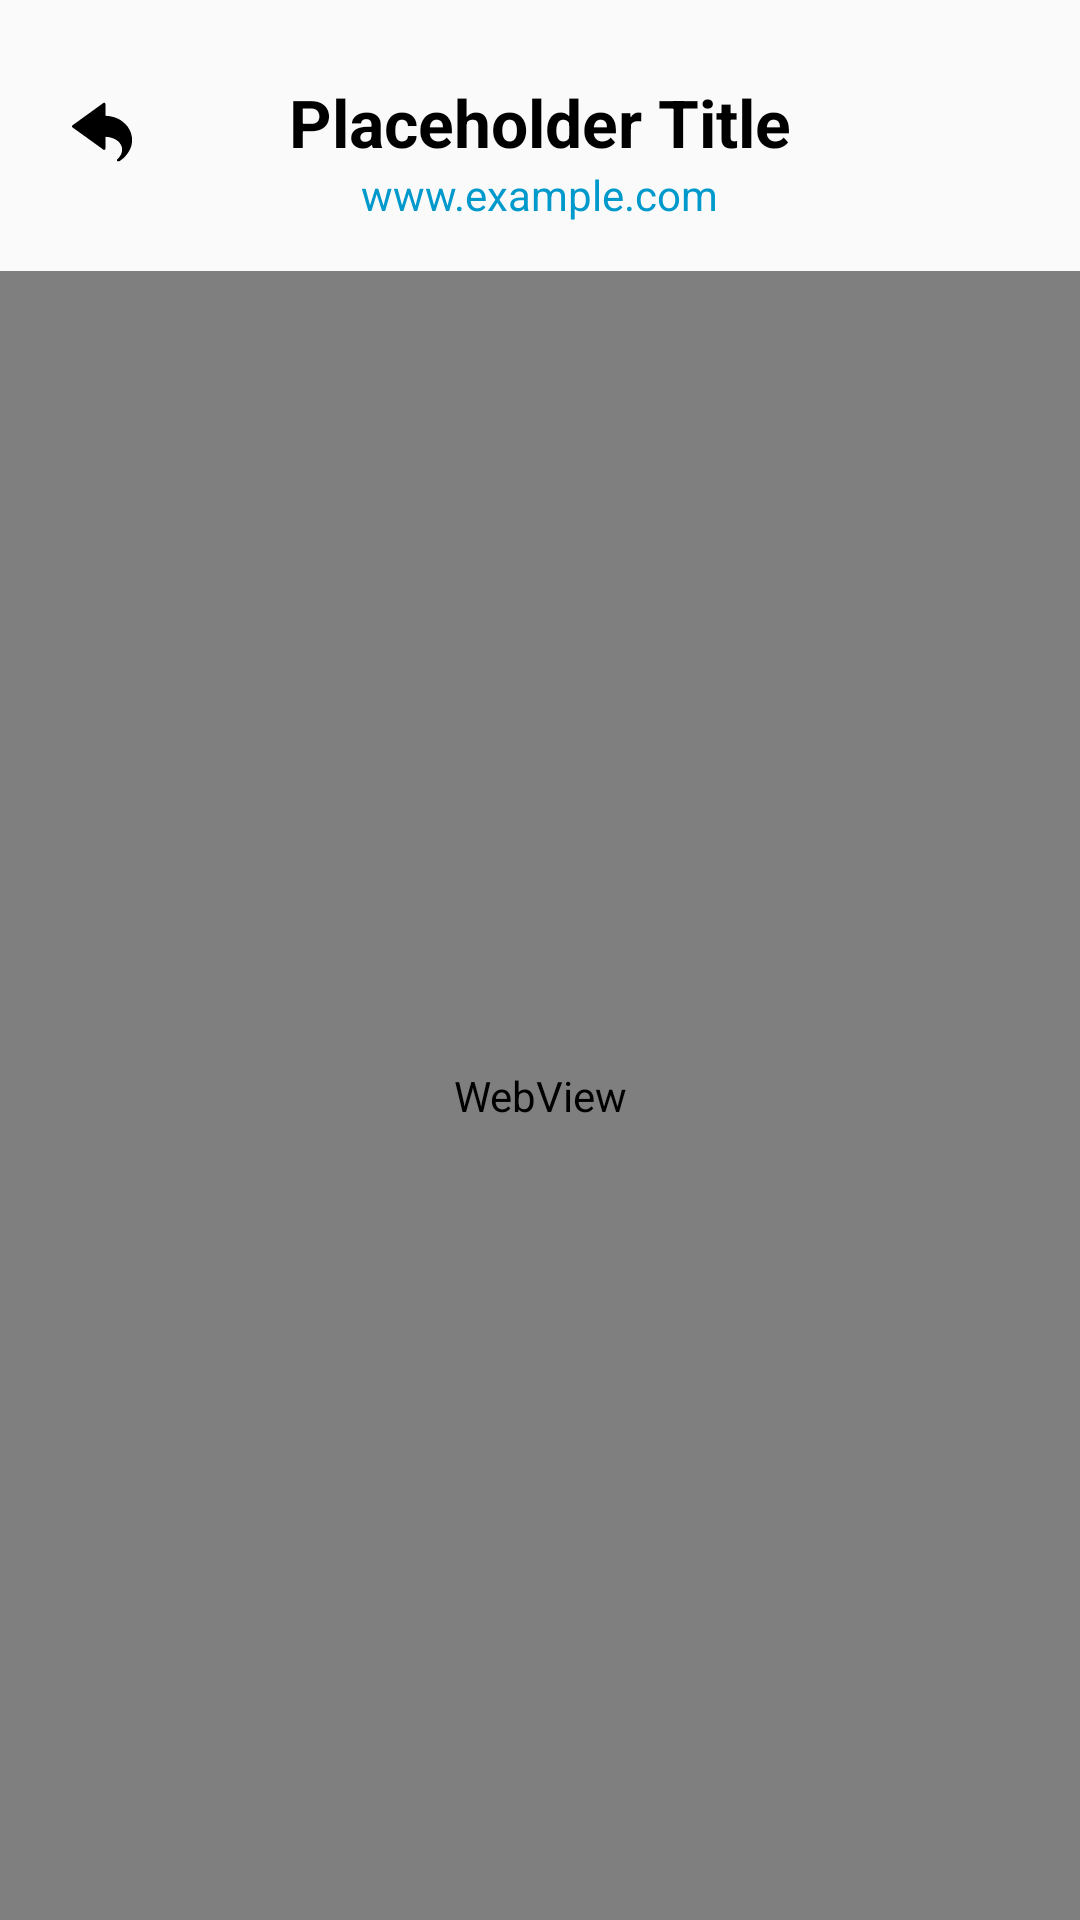

Icon bounding boxes for this 1080 × 1920 phone screenshot, format box(x1, y1, x2, y2):
Back: box(72, 102, 132, 162)
